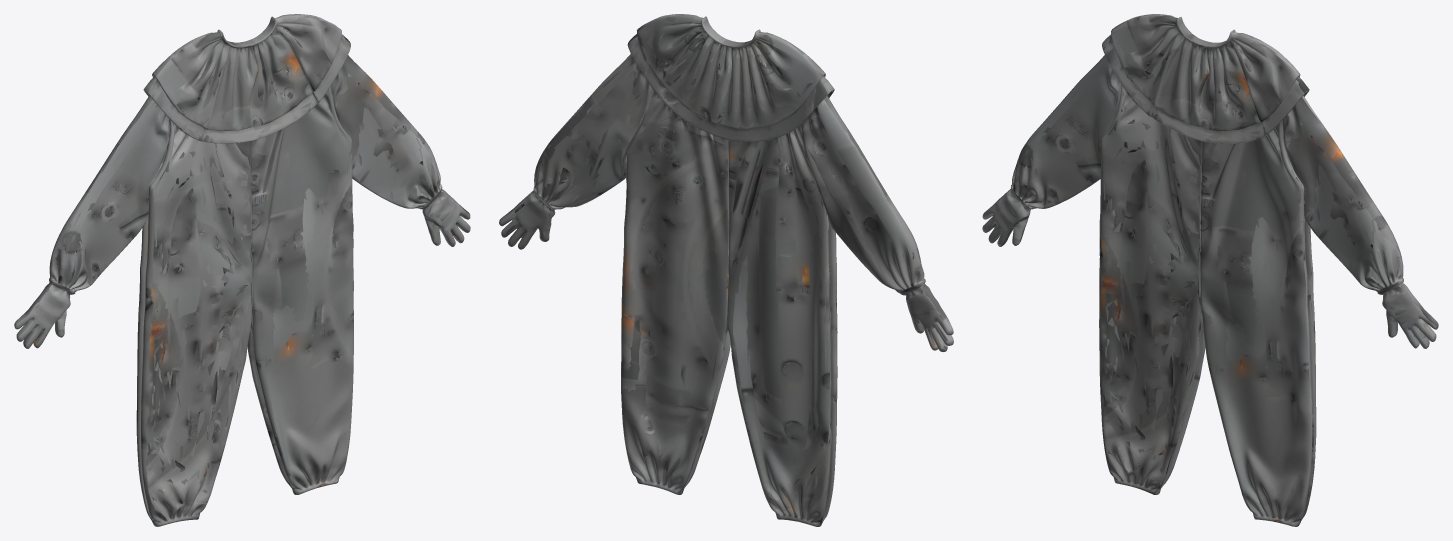
Rendered from tenue de clown-hell house.glb.
3 views of the same model, side by side, from view 1: azimuth 30°, elevation 25°; view 2: azimuth 150°, elevation 25°; view 3: azimuth 330°, elevation 25° (orthographic).
Parts seen in each view (by area): view 1: node_0; view 2: node_0; view 3: node_0.
Boxes of the visible parts, x1,y1,x2,y2 form: node_0: [14, 14, 470, 526]; node_0: [499, 14, 953, 526]; node_0: [982, 14, 1438, 526].
Size of the model in its own units: 1.11 by 1.12 by 0.0623.
1 material, 1 textured.
